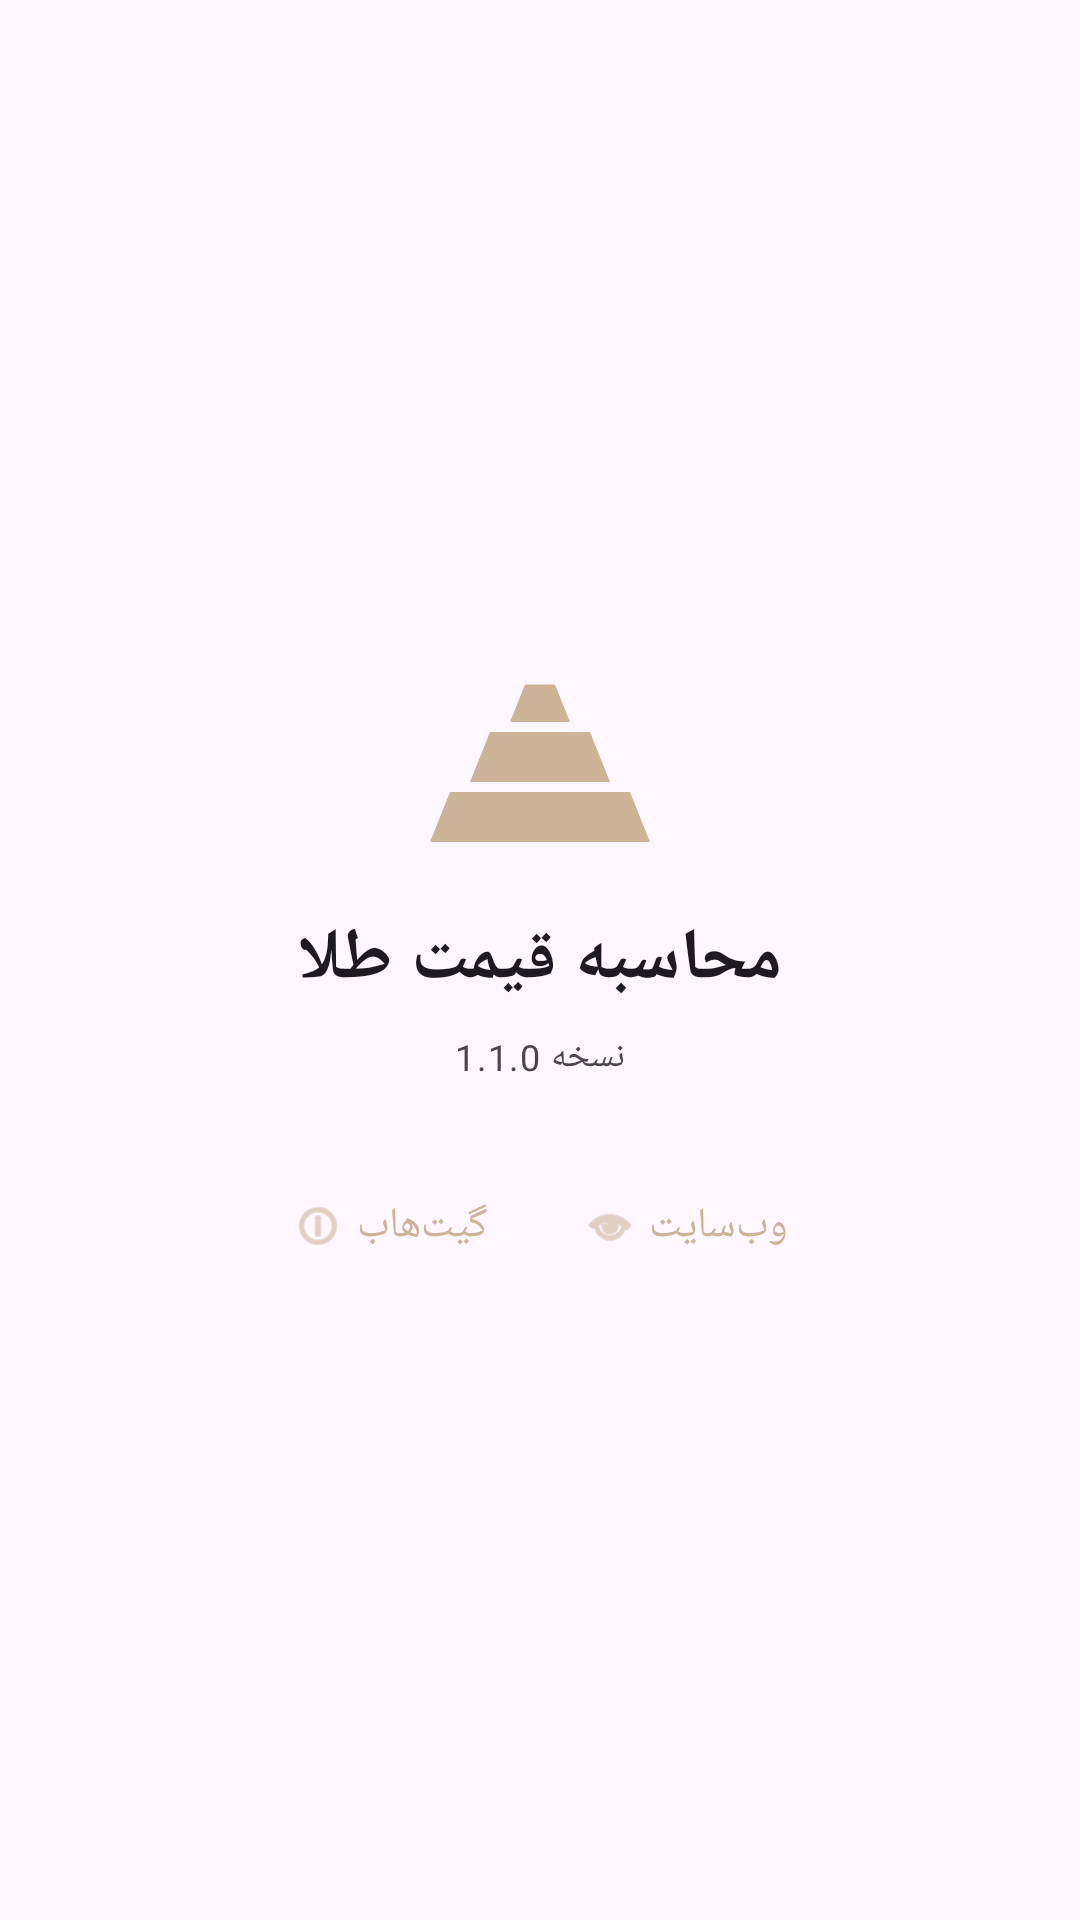

Point at icon controls on the screen. Image size 1080px×1920px, points as point (x, y).
gold bar: point (540, 763)
